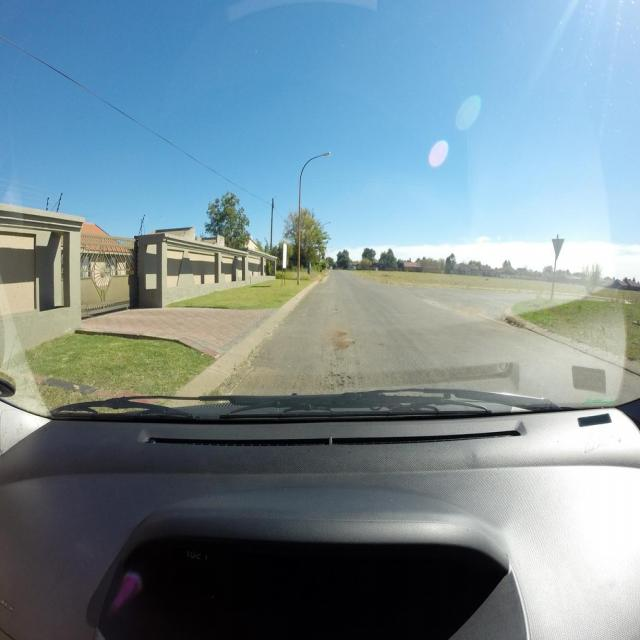Pothole: (336, 339, 356, 350), (338, 332, 347, 337), (333, 307, 338, 314)
